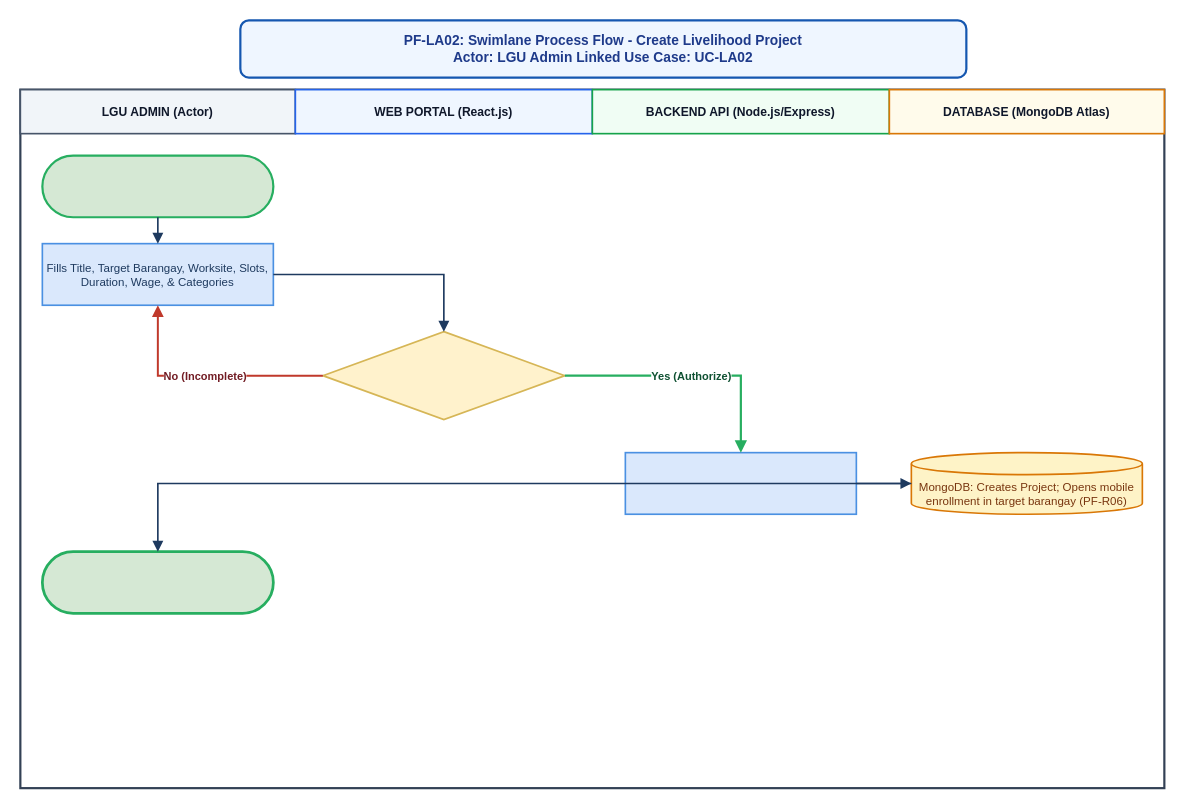
Image size: 1184x807. Some labels were removed from this diagram. Each missing label, with the centre of its shape:
All fields valid & budget authorized?: (443,375)
END: Direct LGU CFW project active: (157,582)
POST /api/cash-for-work/projects Status set directly to "approved_active": (740,483)
START: Opens Livelihood Assistance: (157,186)
